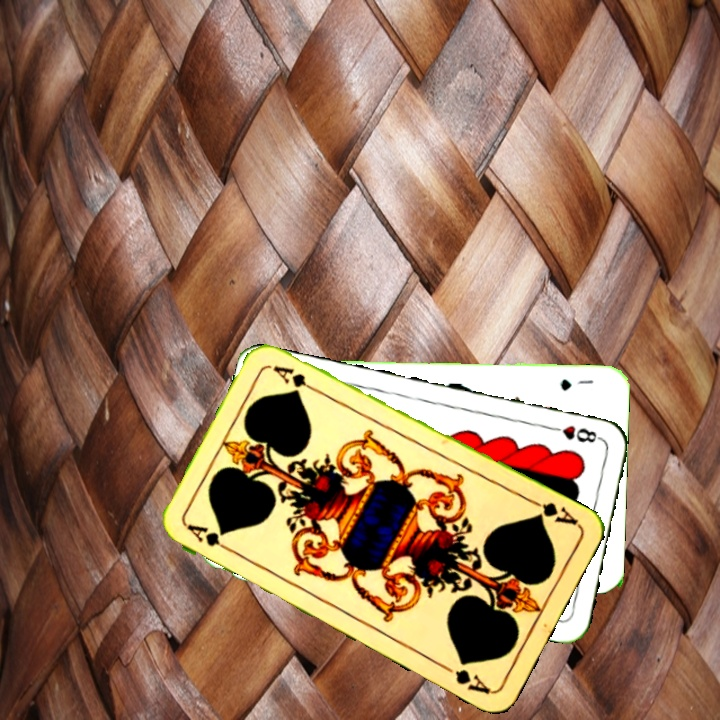GA: (182, 520, 237, 556), (525, 495, 581, 528)
GU: (556, 375, 596, 394)
H8: (545, 421, 604, 446)
